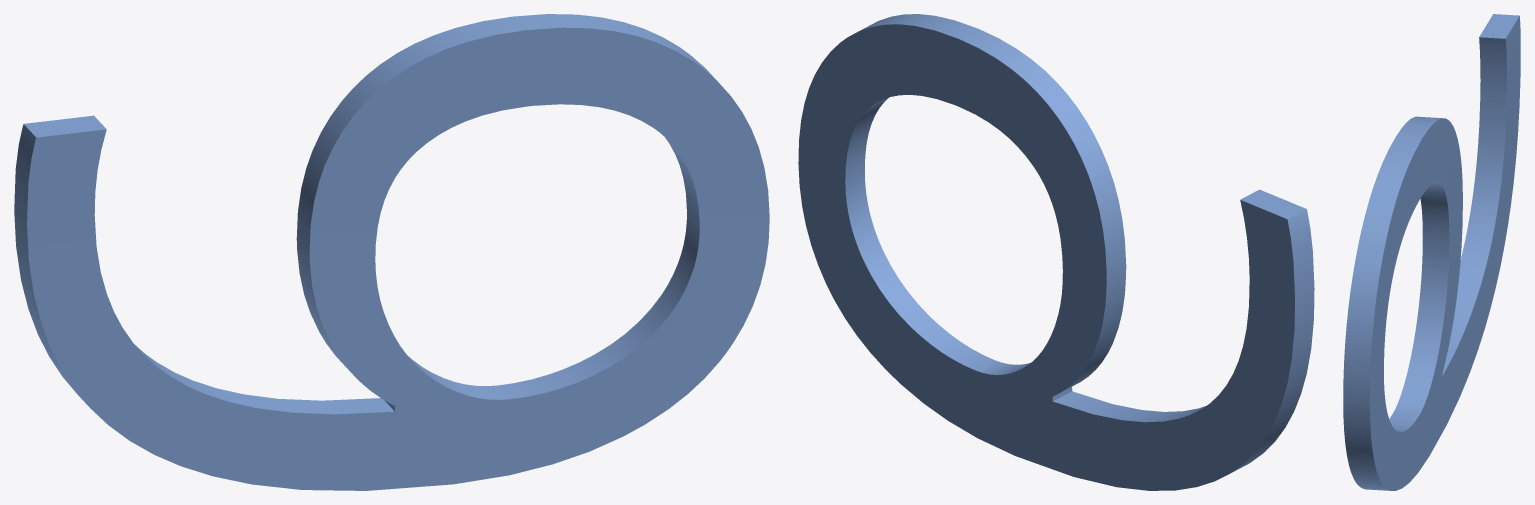
Rendered from New_Number_9.gltf.
3 renders of one model, left to right at view 1: azimuth 30°, elevation 25°; view 2: azimuth 150°, elevation 25°; view 3: azimuth 270°, elevation 25°, orthographic. The views are drawn at different scales.
Parts seen in each view (by area): view 1: Part 171; view 2: Part 171; view 3: Part 171.
Part boxes in pixels (box(x1,y1,x2,y2)): Part 171: box(14, 14, 769, 490); Part 171: box(798, 14, 1314, 490); Part 171: box(1343, 14, 1520, 490).
Size of the model in its own units: 0.00554 by 0.0036 by 0.00169.
